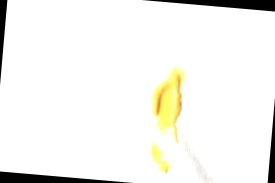mustard: (146, 68, 189, 142), (144, 144, 176, 176)
